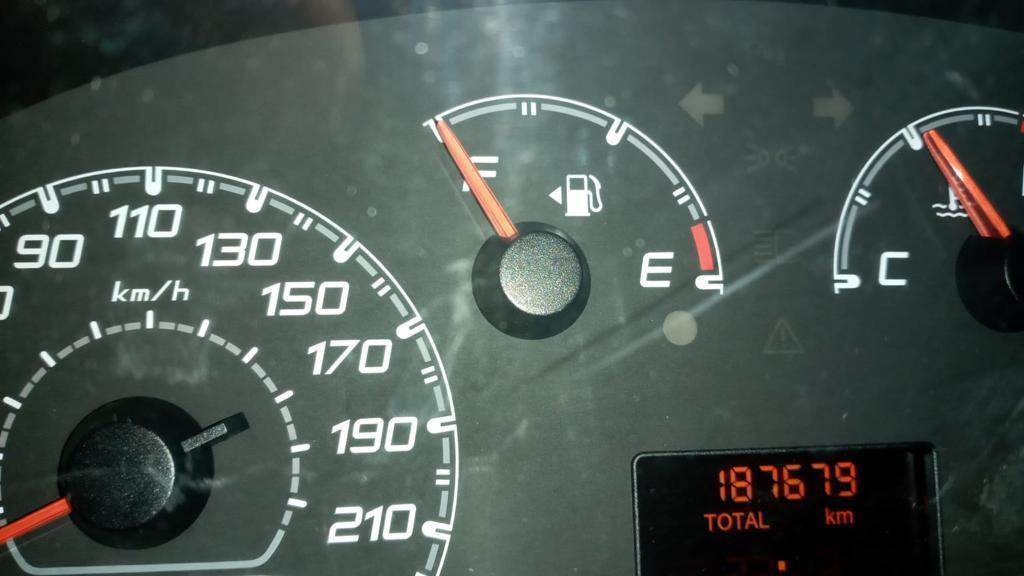1: (716, 464, 728, 504)
6: (782, 461, 805, 501)
7: (810, 461, 833, 500), (758, 462, 780, 501)
8: (729, 463, 755, 504)
9: (836, 460, 858, 498)
X: (730, 508, 745, 532), (756, 508, 771, 531), (836, 509, 854, 527), (702, 511, 716, 533), (821, 504, 835, 526), (717, 512, 731, 533), (745, 510, 757, 531)
odometer: (626, 439, 953, 576)
